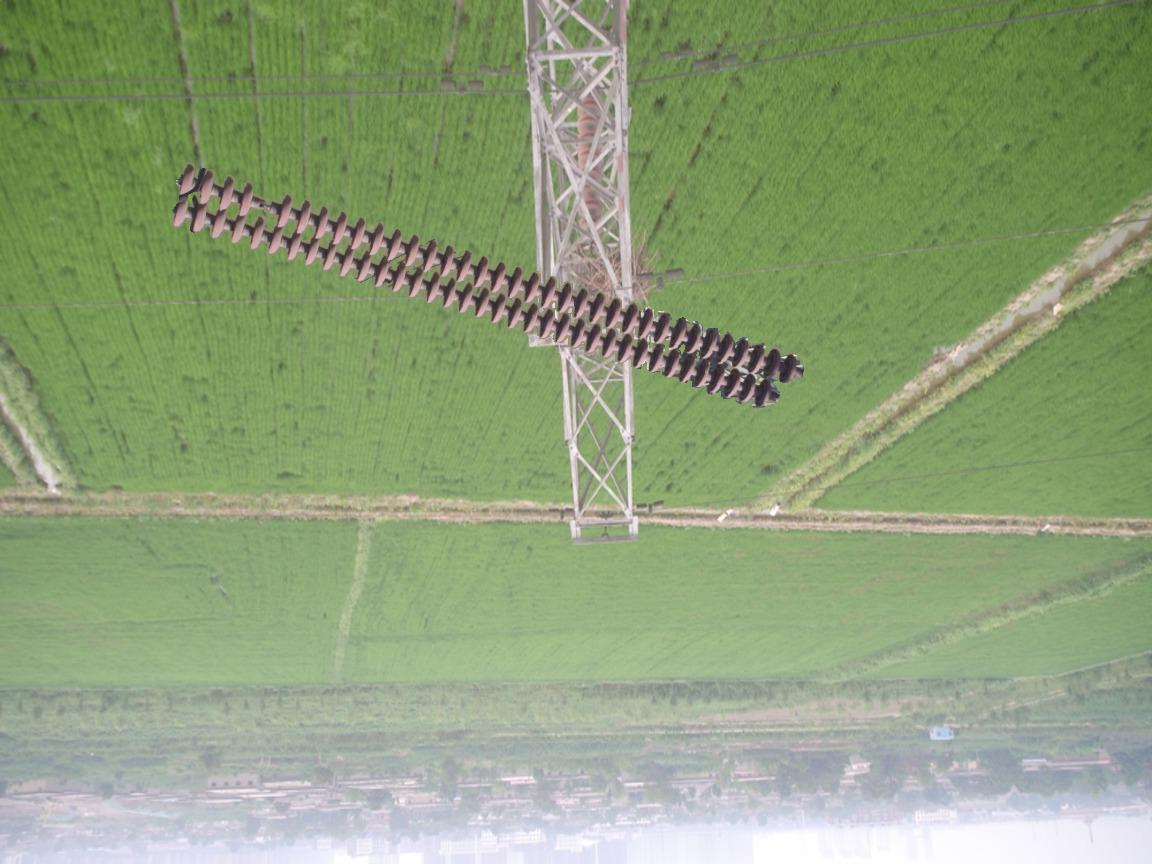insulator: (169, 159, 805, 414), (572, 93, 607, 225)
insulator_stringdrop: (236, 180, 295, 231)
